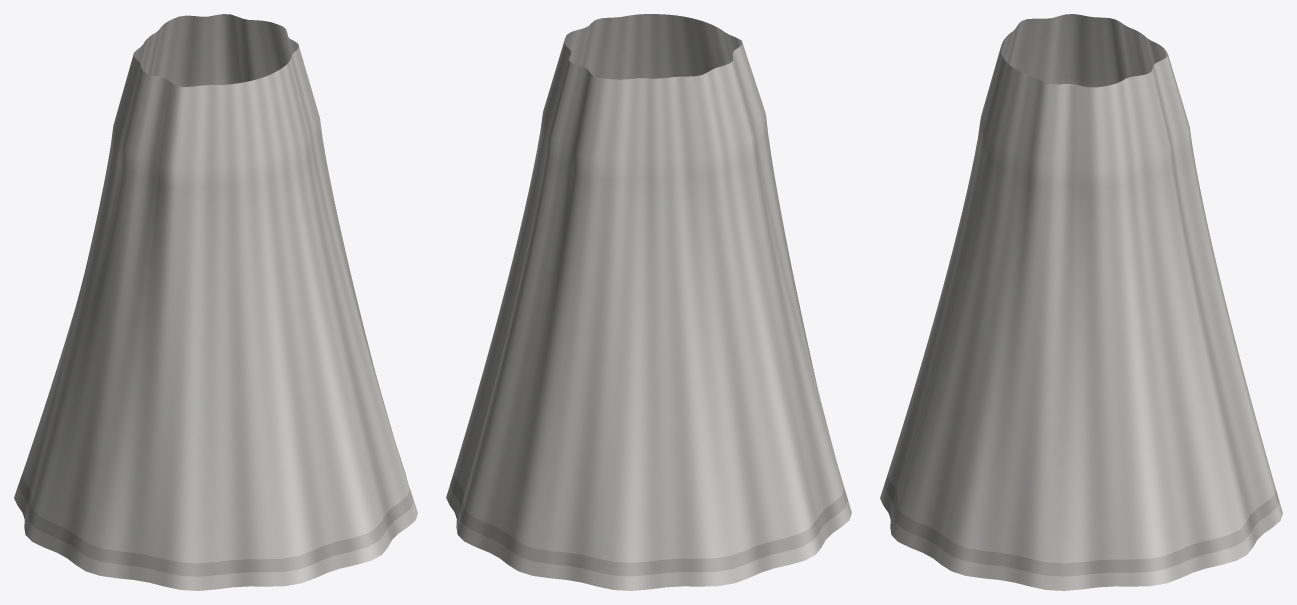
File: mujer_falda.obj
3 views of the same model, side by side, from view 1: azimuth 30°, elevation 25°; view 2: azimuth 150°, elevation 25°; view 3: azimuth 270°, elevation 25° (orthographic).
Parts seen in each view (by area): view 1: mujer_falda; view 2: mujer_falda; view 3: mujer_falda.
Boxes of the visible parts, bbox=[...] form: mujer_falda: bbox=[14, 14, 417, 590]; mujer_falda: bbox=[446, 14, 851, 590]; mujer_falda: bbox=[880, 14, 1282, 590].
Bounding box in the file's own units: 0.6107 × 0.76 × 0.6107.
